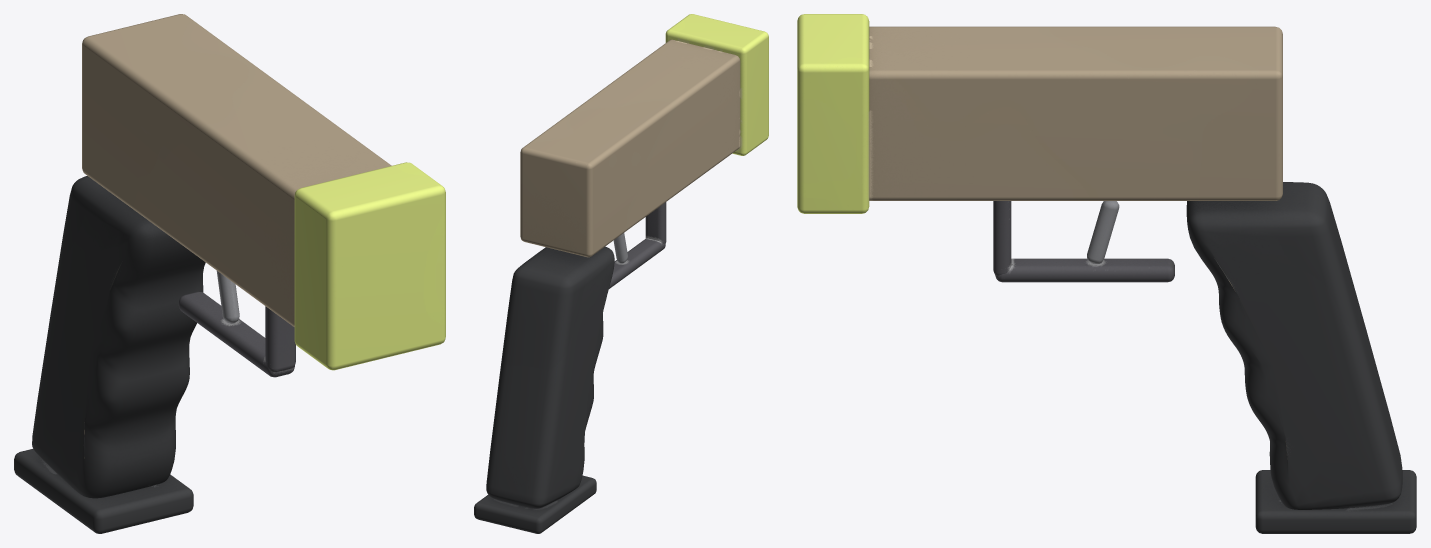
File: taser.fbx
3 renders of one model, left to right at view 1: azimuth 30°, elevation 25°; view 2: azimuth 150°, elevation 25°; view 3: azimuth 270°, elevation 25°, orthographic. The views are drawn at different scales.
Parts seen in each view (by area): view 1: taser; view 2: taser; view 3: taser.
Part boxes in pixels (box(x1,y1,x2,y2)): taser: box(14, 14, 445, 533); taser: box(474, 14, 768, 533); taser: box(797, 14, 1416, 533).
Size of the model in its own units: 0.036 by 0.1455 by 0.1722.
